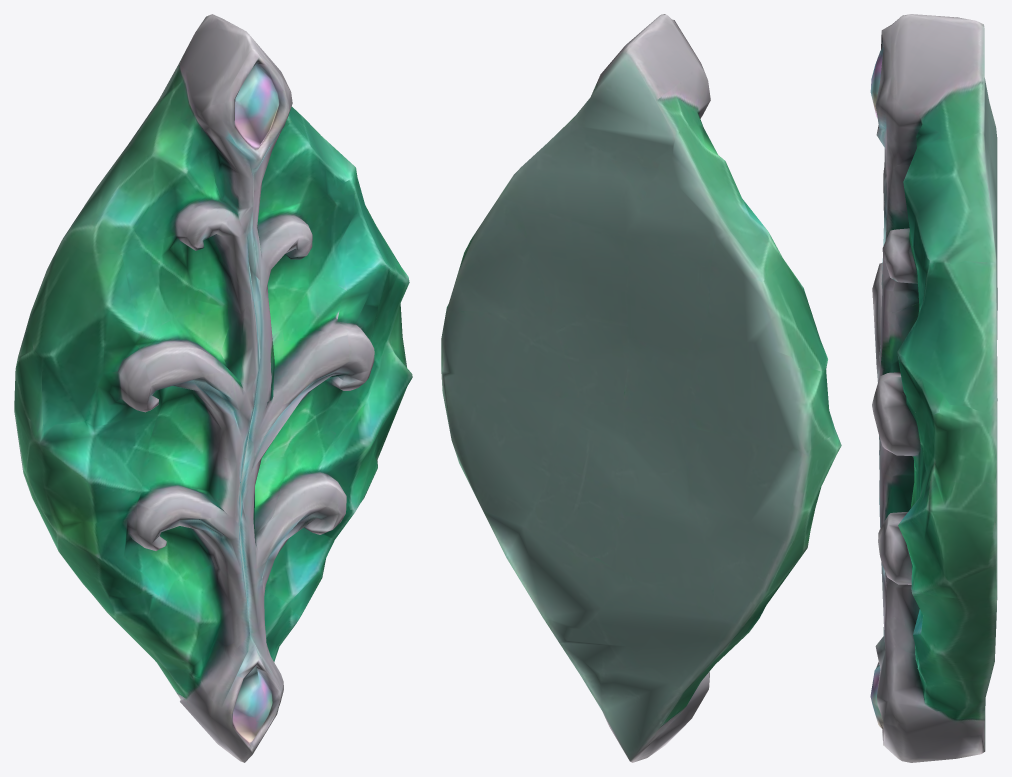
The model's file is gem-leaf.medium.glb.
3 views of the same model, side by side, from view 1: azimuth 30°, elevation 25°; view 2: azimuth 150°, elevation 25°; view 3: azimuth 270°, elevation 25° (orthographic). The views are drawn at different scales.
Visible parts, largest first — view 1: tripo_node_af48534b-b704-4a13-83f8-cd6cfa7a91ef; view 2: tripo_node_af48534b-b704-4a13-83f8-cd6cfa7a91ef; view 3: tripo_node_af48534b-b704-4a13-83f8-cd6cfa7a91ef.
Boxes of the visible parts, x1,y1,x2,y2 form: tripo_node_af48534b-b704-4a13-83f8-cd6cfa7a91ef: [14, 14, 412, 762]; tripo_node_af48534b-b704-4a13-83f8-cd6cfa7a91ef: [441, 14, 841, 762]; tripo_node_af48534b-b704-4a13-83f8-cd6cfa7a91ef: [870, 14, 997, 762].
Size of the model in its own units: 0.162 by 0.2999 by 0.046.
Materials: 1 (1 with a texture image).
